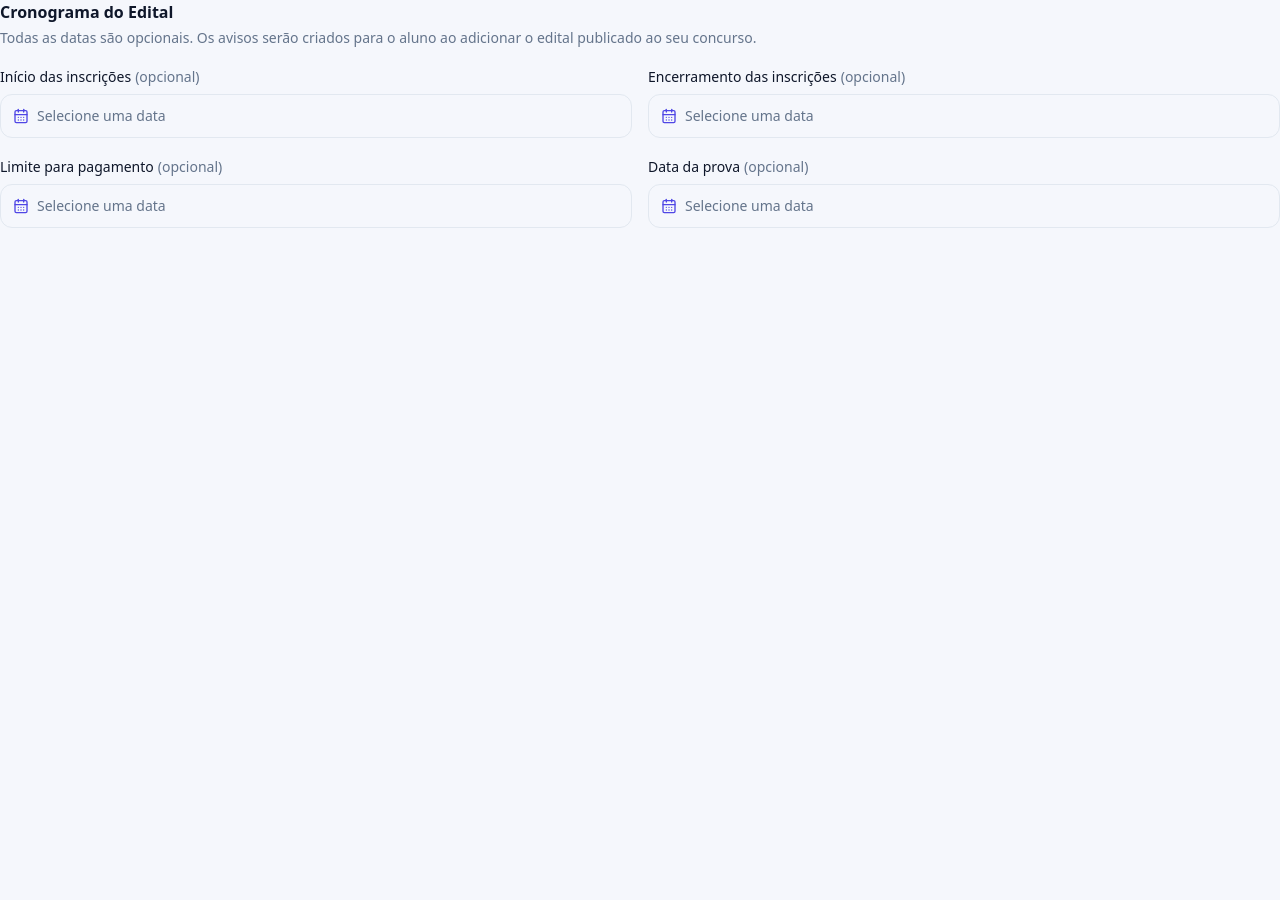
Test: Cronograma do Edital › apresenta quatro datas opcionais com os calendários compartilhados
Expected: the heading "Cronograma do Edital" is shown, [0,1,173,23]
Expected: the button with aria-label "Início das inscrições" is enabled, [0,94,632,138]
Click the button with aria-label "Data da prova".
click(749, 206)  # box [648,184,1279,228]
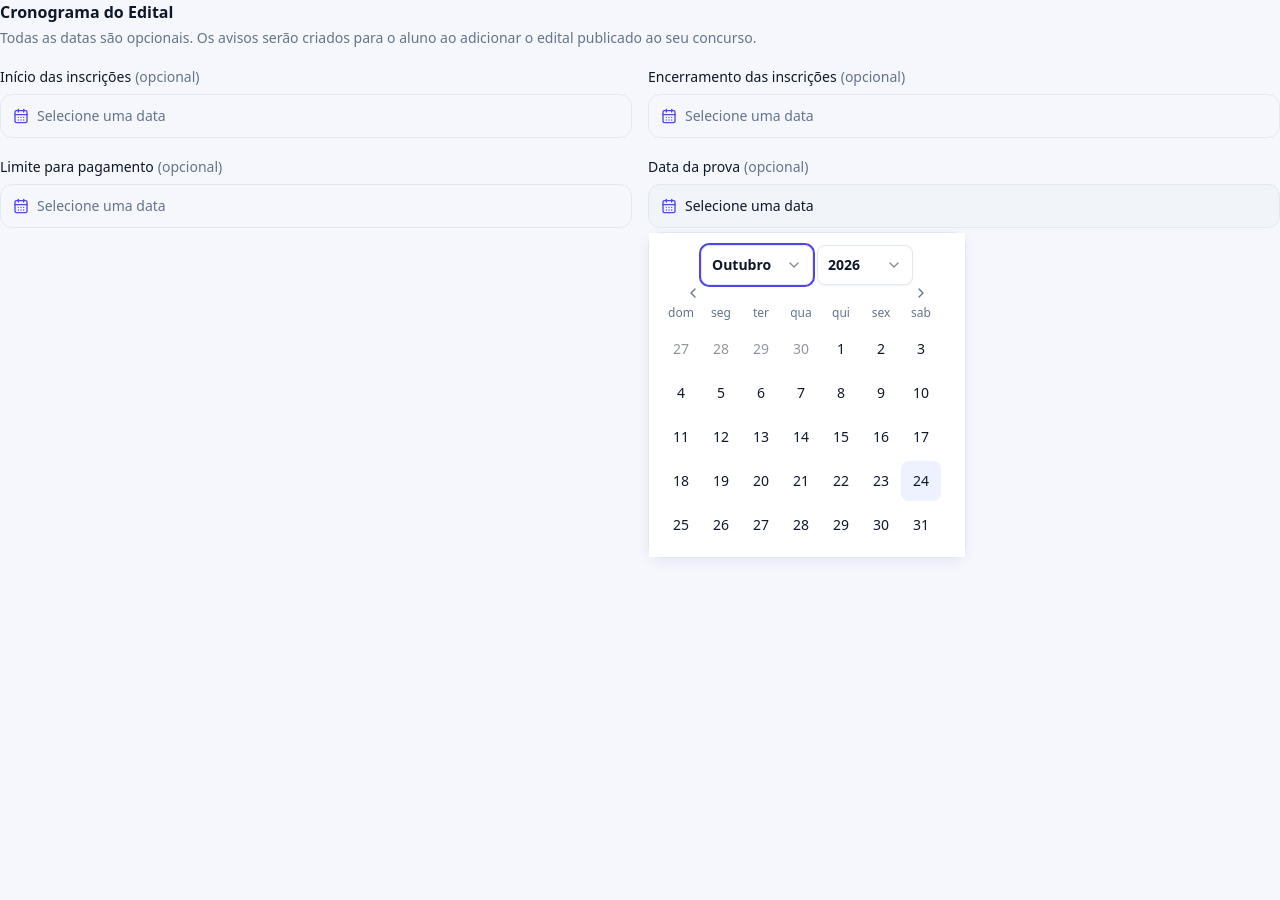
Expected: the dropdown named "Selecionar ano" is shown, [817,245,913,285]
Expected: the dropdown named "Selecionar mês" is shown, [701,245,813,285]
